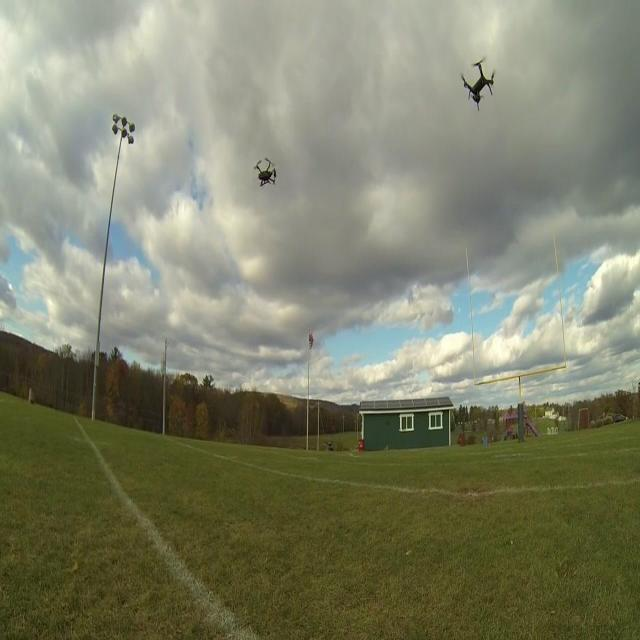UAV: (460, 56, 496, 111), (254, 157, 276, 187)
